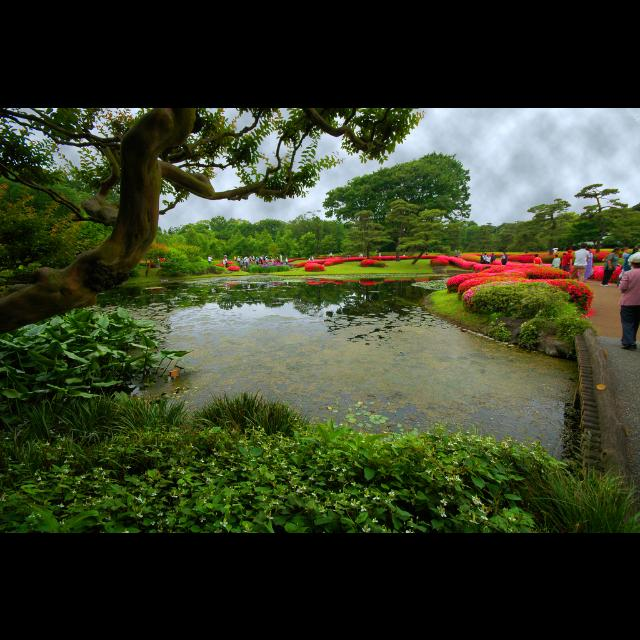Flower: (1, 428, 540, 532), (284, 251, 626, 317), (247, 258, 283, 266), (150, 240, 168, 252), (214, 260, 240, 268), (140, 259, 162, 267), (588, 307, 596, 315)
